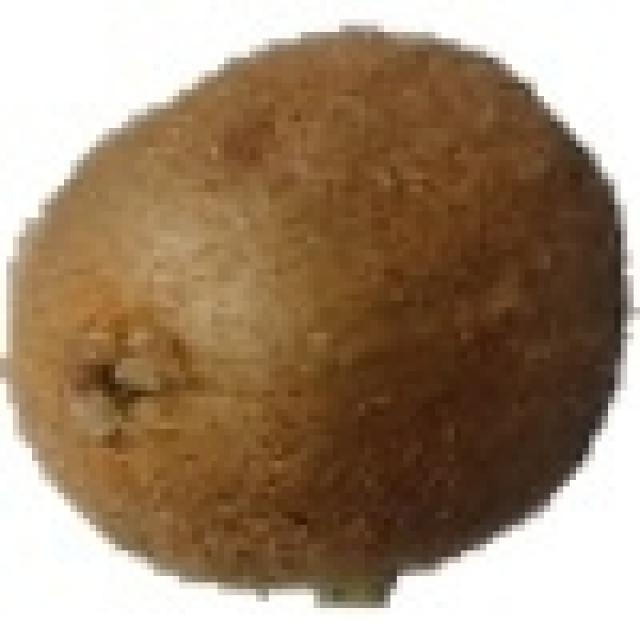kiwi: (6, 26, 608, 589)
